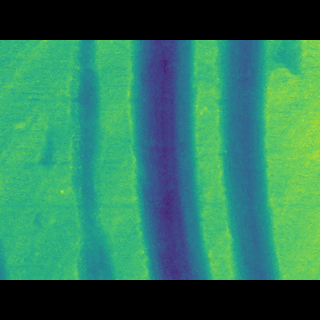Loch: (129, 69, 215, 251), (216, 69, 284, 250), (59, 69, 118, 250)
